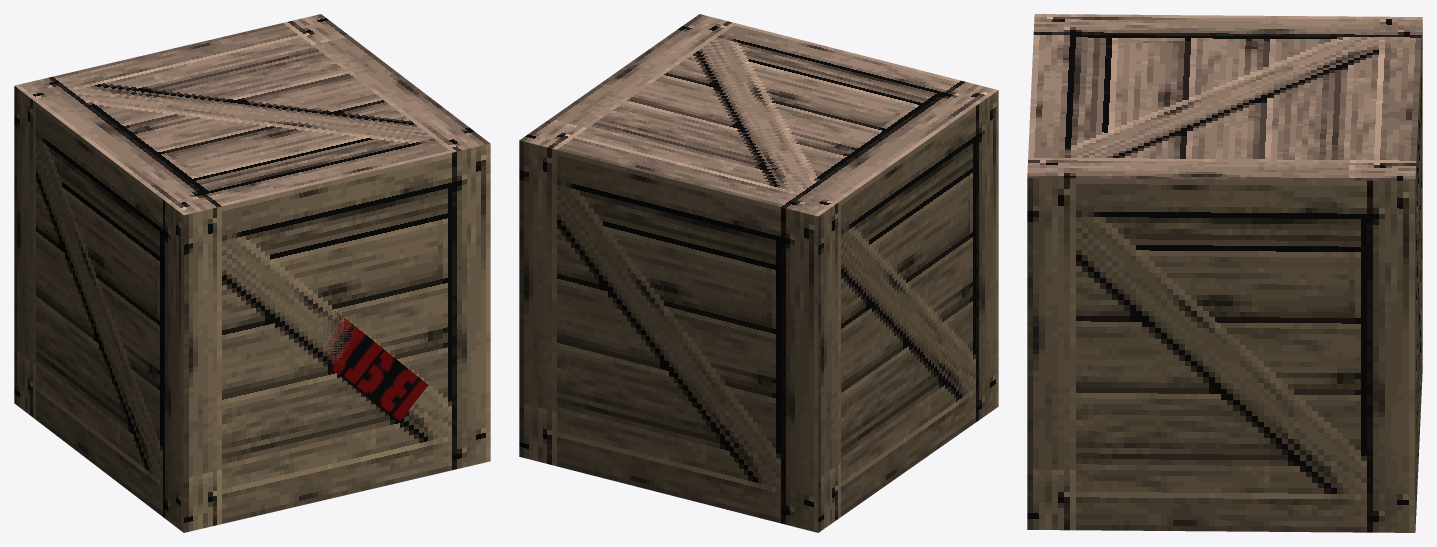
File: primary_327.glb
3 views of the same model, side by side, from view 1: azimuth 30°, elevation 25°; view 2: azimuth 150°, elevation 25°; view 3: azimuth 270°, elevation 25° (orthographic). The views are drawn at different scales.
Visible parts, largest first — view 1: Object; view 2: Object; view 3: Object.
Boxes of the visible parts, x1=… form: Object: x1=14, y1=14, x2=490, y2=532; Object: x1=519, y1=14, x2=998, y2=532; Object: x1=1027, y1=14, x2=1422, y2=532.
Size of the model in its own units: 0.9675 by 0.9497 by 0.9675.
Materials: 7 (7 with a texture image).
